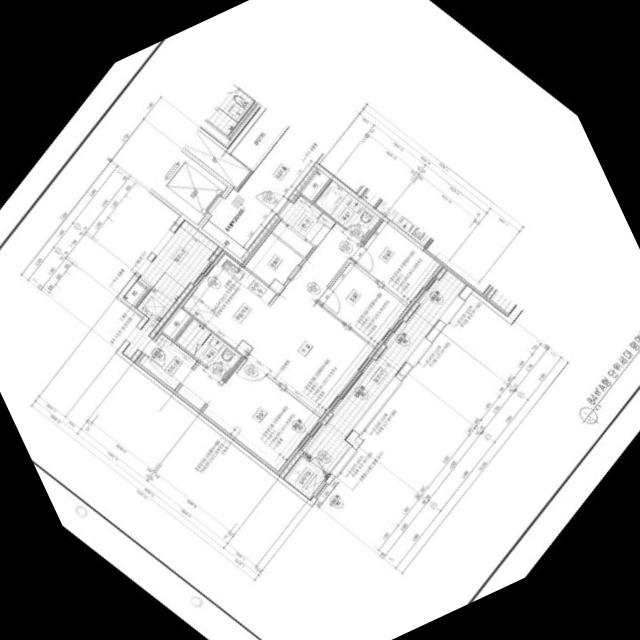background: (0, 0, 640, 640)
space_balconi: (303, 268, 469, 473), (123, 220, 218, 358)
space_bedroom: (201, 358, 322, 475), (353, 220, 445, 306), (320, 262, 410, 348)
space_dressroom: (135, 331, 198, 392), (176, 362, 226, 412)
space_elevator: (152, 150, 228, 224)
space_elevator_hall: (209, 126, 323, 250)
space_front: (280, 193, 336, 247), (270, 219, 314, 257)
space_kitchen: (180, 250, 276, 348)
space_living_room: (243, 223, 377, 417)
space_other: (184, 129, 251, 188), (231, 108, 287, 169), (243, 231, 304, 285), (202, 221, 246, 258), (161, 306, 191, 339), (300, 169, 330, 201), (124, 281, 147, 306)
space_outdoor_room: (284, 456, 327, 499)
space_toilet: (176, 318, 242, 378), (315, 181, 381, 240)
